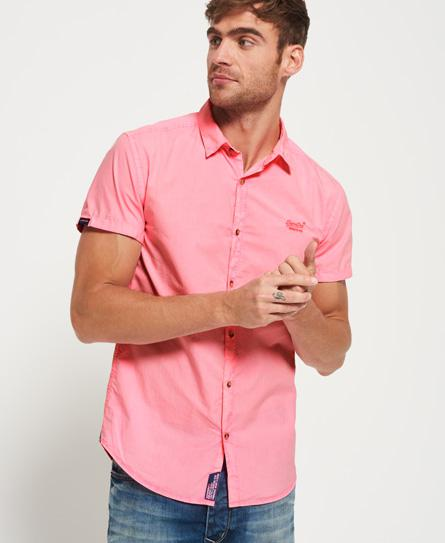teeshirt: (76, 95, 358, 518)
